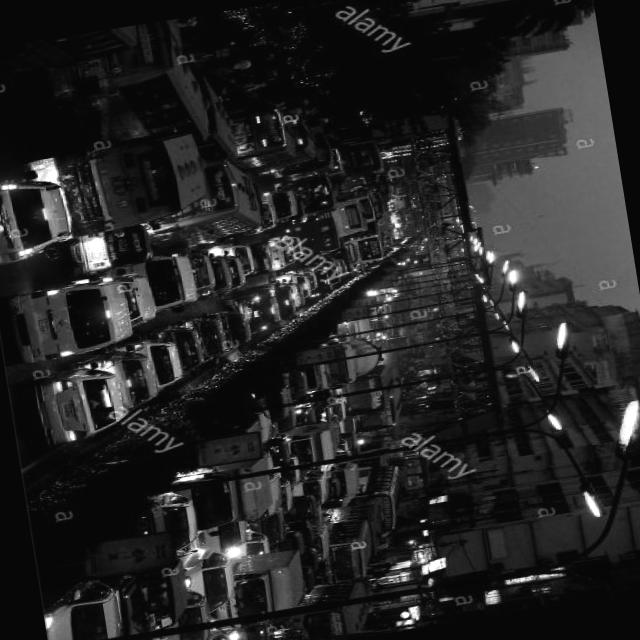bus: (44, 32, 217, 153), (65, 130, 213, 236), (141, 156, 268, 250), (0, 24, 145, 79), (341, 460, 417, 536), (305, 515, 383, 588), (286, 579, 375, 640), (242, 128, 338, 184), (338, 362, 407, 432), (237, 104, 300, 162), (200, 96, 243, 162), (393, 434, 435, 492), (296, 170, 342, 218), (341, 221, 387, 266), (342, 137, 386, 176), (324, 195, 362, 238), (342, 187, 380, 224), (356, 402, 401, 433), (398, 309, 432, 332), (387, 332, 416, 356), (400, 278, 424, 298), (378, 175, 394, 201), (342, 174, 370, 188)
car: (28, 360, 128, 450), (0, 167, 77, 266), (74, 345, 164, 412), (41, 575, 131, 640), (116, 333, 186, 392), (180, 547, 239, 616), (144, 489, 206, 553), (164, 589, 219, 640), (227, 290, 284, 338), (213, 307, 257, 351), (224, 524, 274, 562), (196, 314, 231, 362), (192, 248, 221, 298), (260, 237, 298, 273), (272, 270, 312, 304), (210, 252, 236, 298), (282, 368, 313, 400), (228, 252, 248, 288), (280, 476, 300, 511), (372, 318, 388, 336), (387, 211, 404, 226), (391, 226, 408, 240), (377, 302, 394, 316)
truck: (12, 274, 138, 364), (202, 548, 312, 633), (304, 332, 394, 393), (275, 416, 343, 471), (147, 250, 201, 316), (118, 256, 181, 310), (318, 460, 366, 502), (271, 182, 306, 220), (334, 314, 378, 342), (294, 468, 332, 494)
